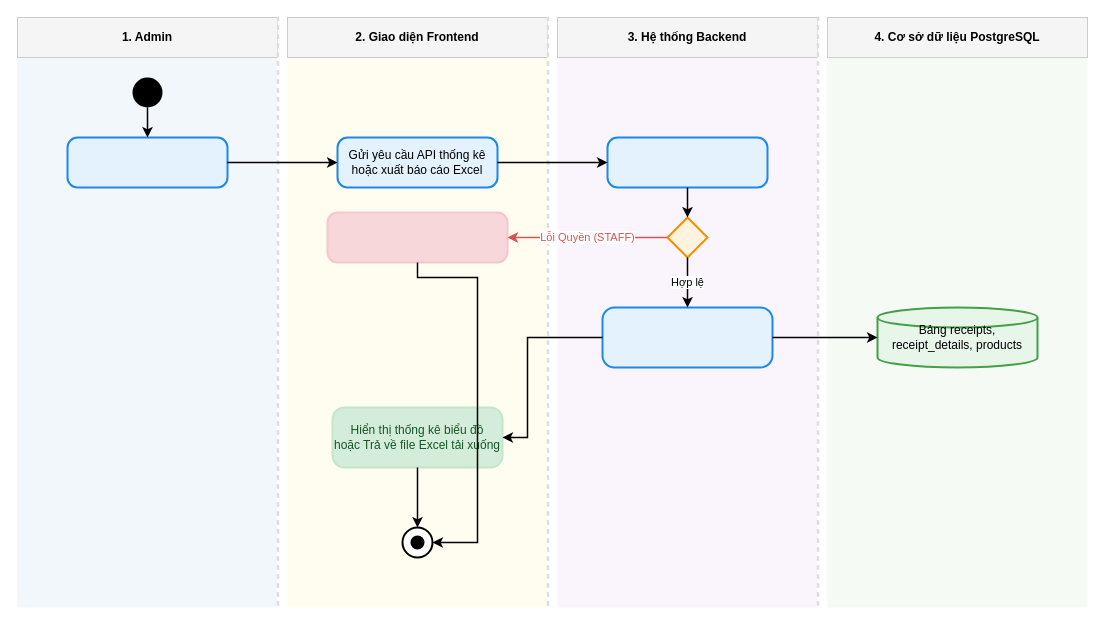
The diagram is 1105 pixels wide and 626 high, and some of its shapes have lost their labels. The shapes that lost their labels are listed below. From the top down, each one's box as (x1, y1, x2, y2) in pixels, then its label:
(66, 136, 228, 188): Mở chức năng Xem Doanh thu hoặc chọn Xuất Excel
(606, 136, 768, 188): Kiểm tra phân quyền ADMIN / MANAGER / STAFF
(326, 211, 508, 263): Từ chối: "Staff không có quyền xem báo cáo doanh thu"
(601, 306, 773, 368): Tính Doanh thu, Lợi nhuận, Thực thu
